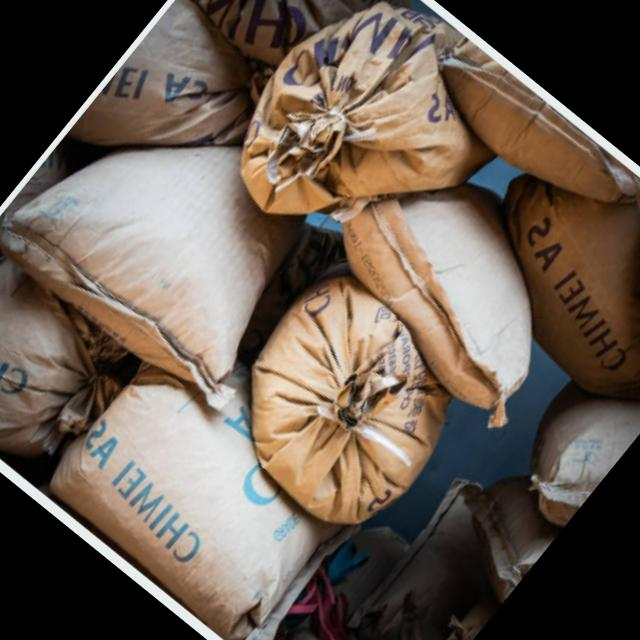KantongSemen: (0, 54, 346, 414), (27, 308, 391, 640), (207, 0, 534, 299), (196, 255, 494, 554), (437, 122, 640, 439), (0, 225, 149, 493)
